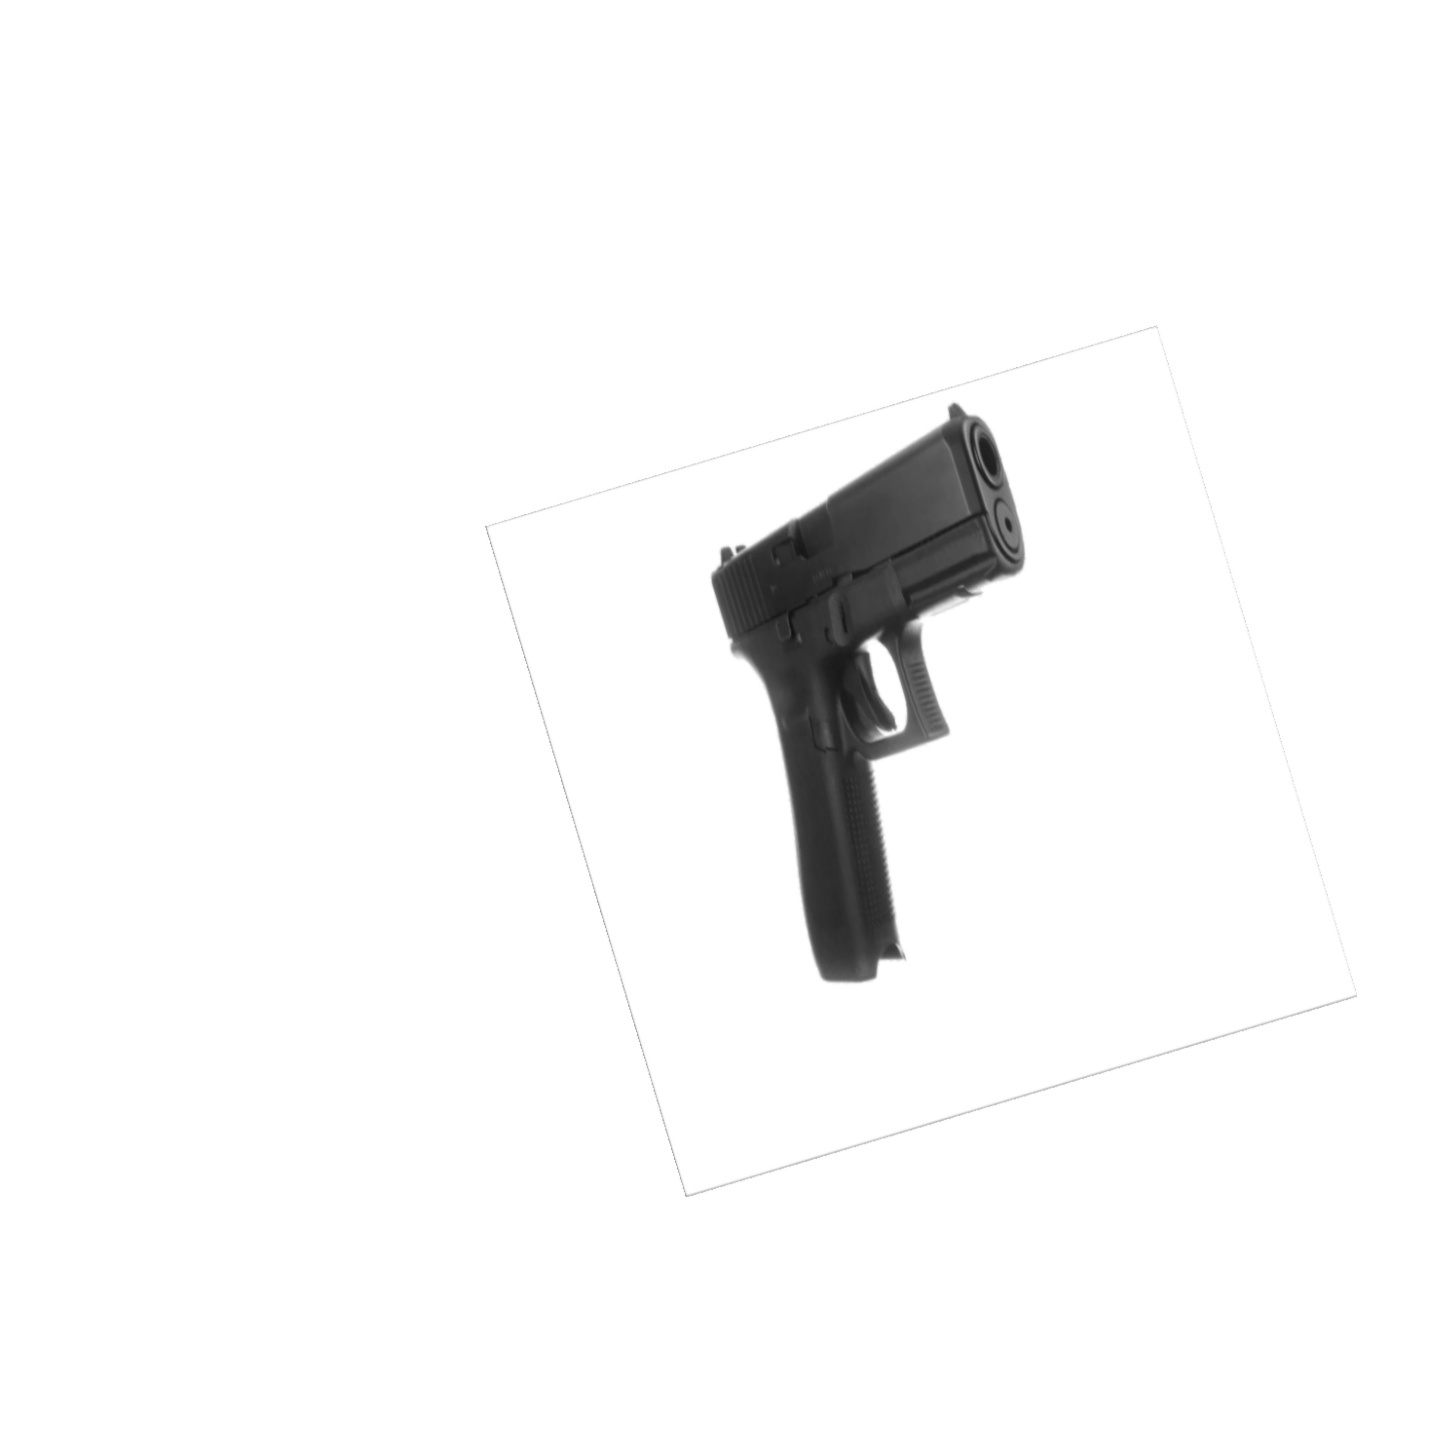gun: (697, 396, 1032, 992)
